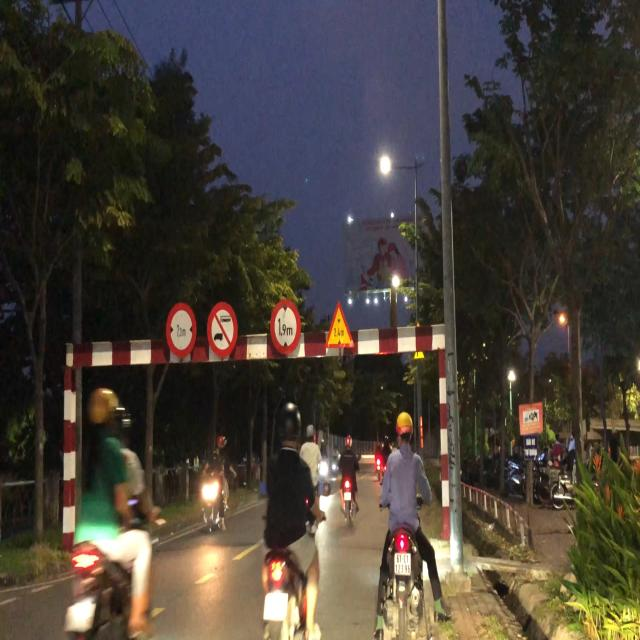Bien bao cam xe oto khach va xe oto tai: (207, 298, 241, 360)
Bien bao chieu cao tinh khong thuc te: (323, 294, 359, 351)
Bien bao han che chieu cao: (270, 298, 302, 355)
